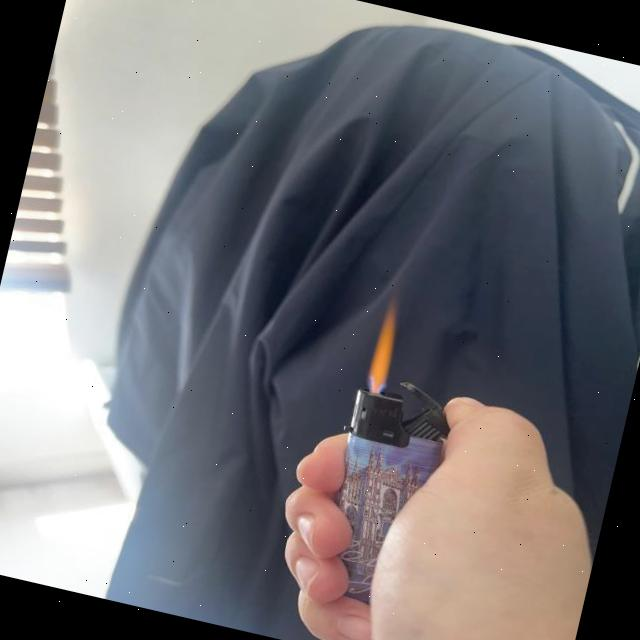fire: (364, 304, 406, 394)
